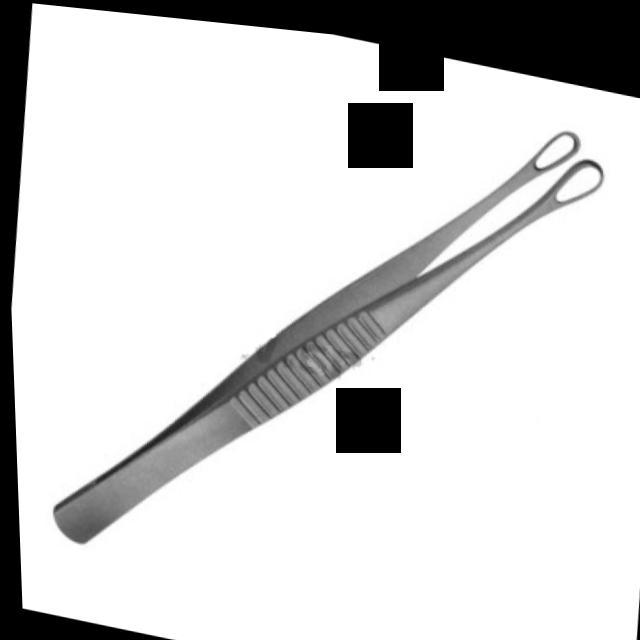Eye Intestinal Forceps: (26, 15, 623, 640)
